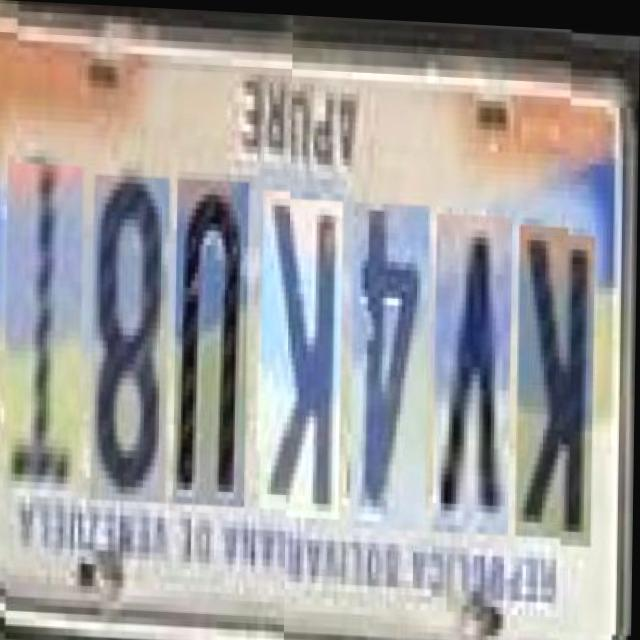4: (351, 198, 431, 526)
8: (91, 180, 170, 508)
k: (260, 194, 345, 516), (517, 219, 597, 534)
t: (4, 170, 84, 506)
u: (174, 183, 249, 511)
v: (434, 208, 513, 530)
